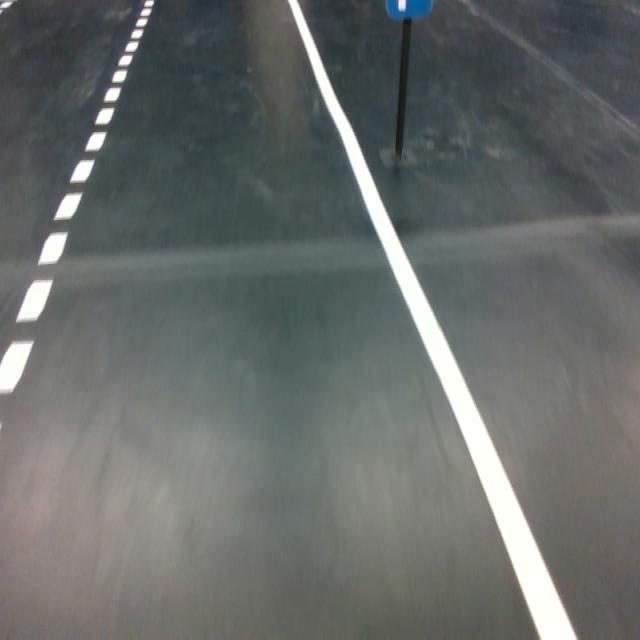parking-sign: (384, 0, 434, 21)
